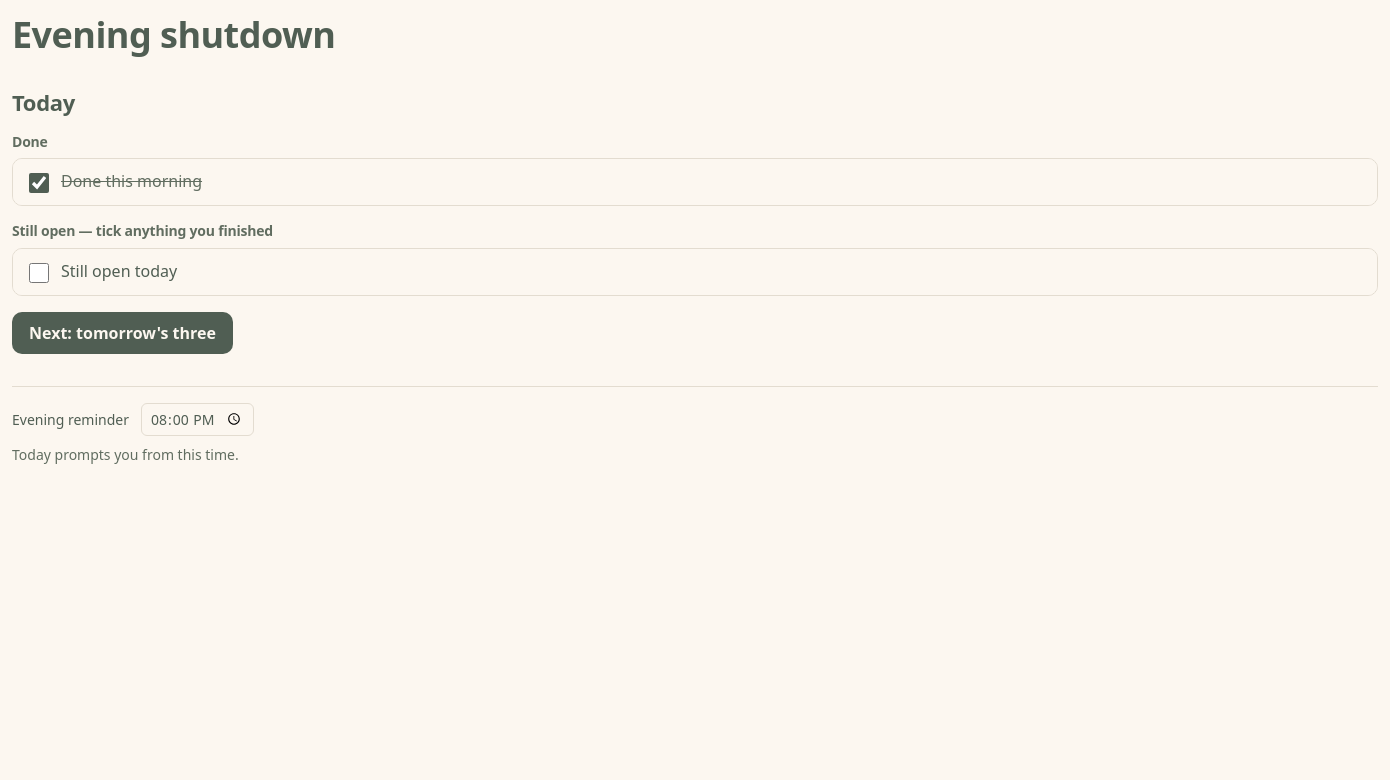
Test: ShutdownRoute: review, then tomorrow’s three › preselects three (carried-over work first) and commits them with the shutdown in one write
Click the button "Next: tomorrow's three" at [122, 332], box [12,312,233,354]
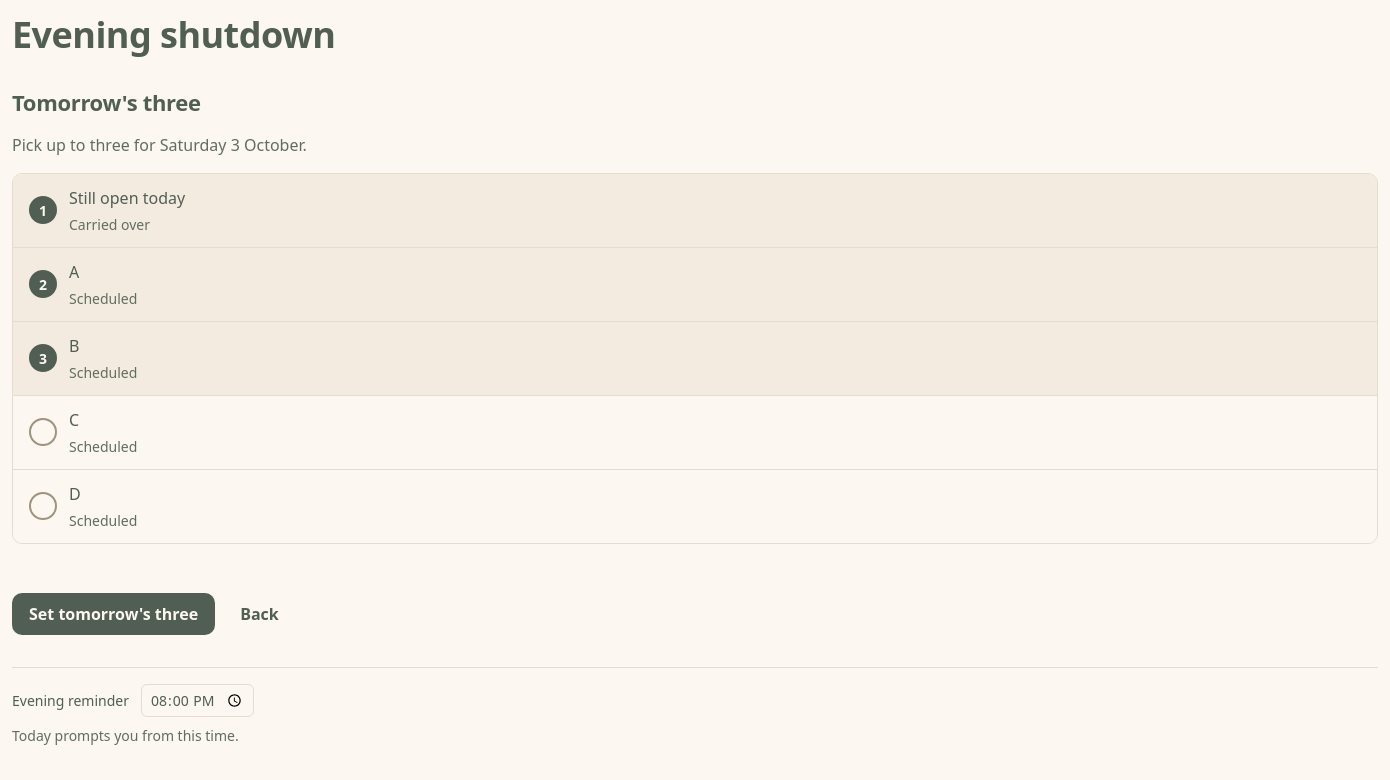
Click the button "Set tomorrow's three" at [114, 614], box [12,593,215,635]
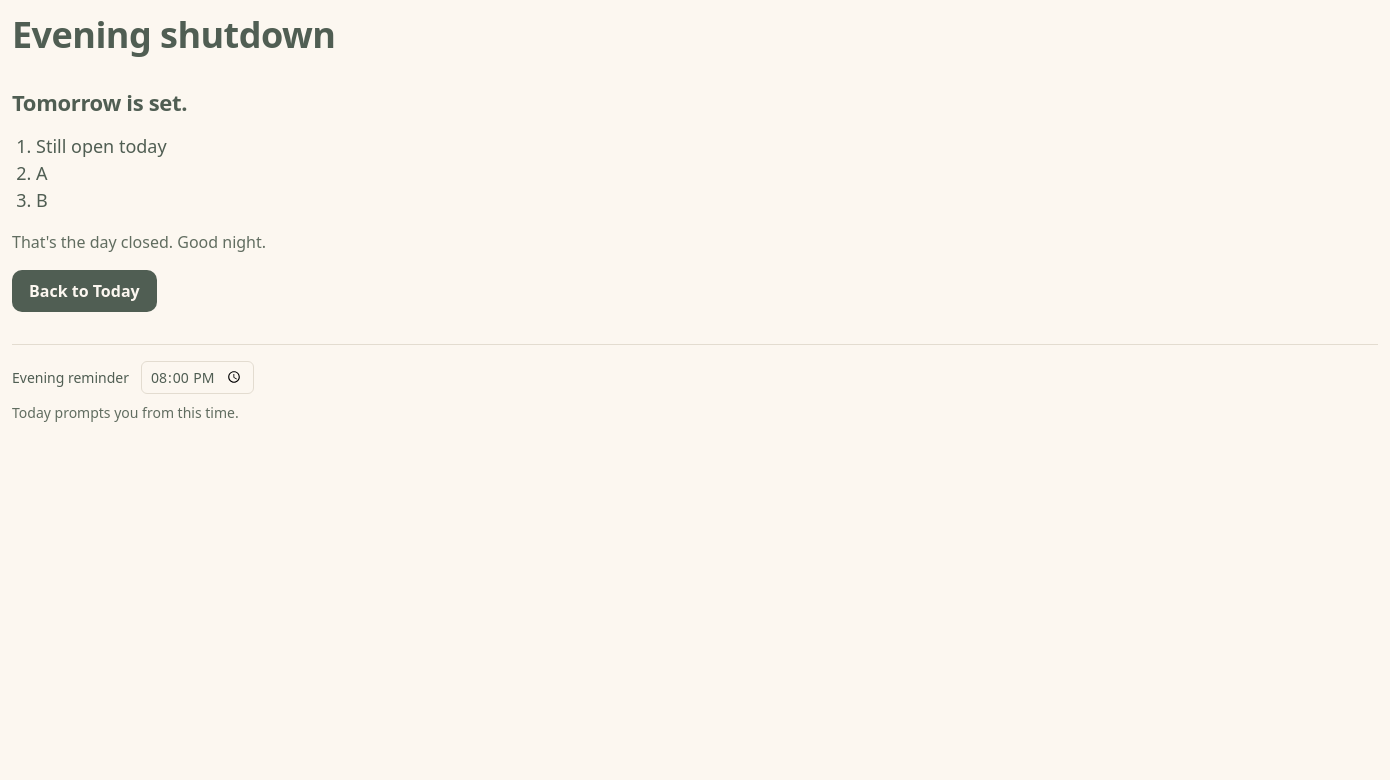
Expected: the heading "Tomorrow is set." is shown, [12,87,187,117]
